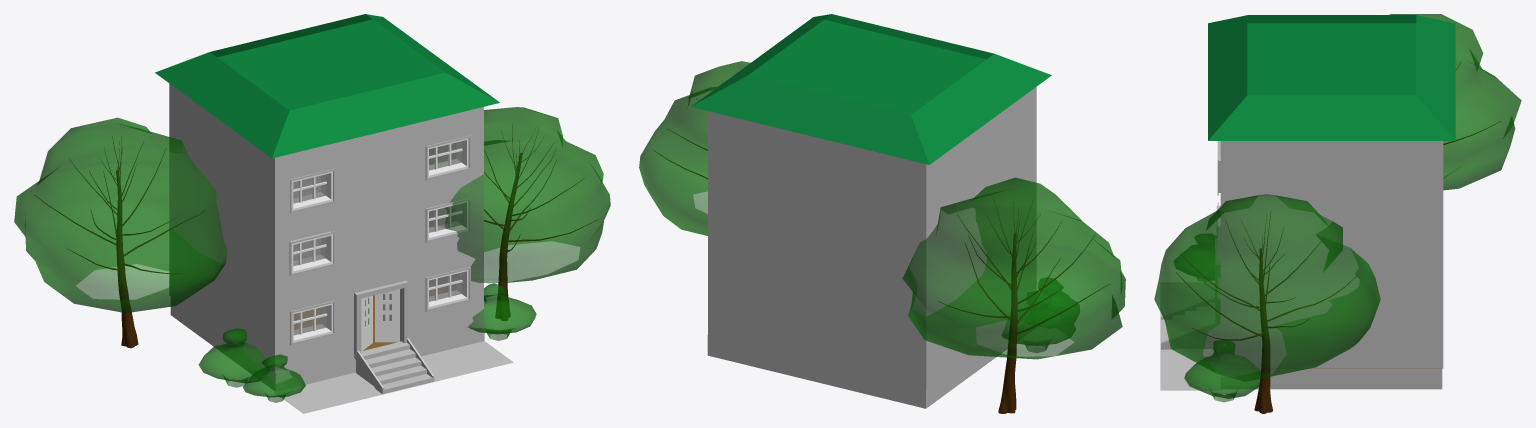
File: Apartment.obj
3 views of the same model, side by side, from view 1: azimuth 30°, elevation 25°; view 2: azimuth 150°, elevation 25°; view 3: azimuth 270°, elevation 25° (orthographic). The views are drawn at different scales.
Parts seen in each view (by area): view 1: Box001, Foliage005, Pyramid001, Foliage001, Box002, Plane001, PivotDoor001, StraightStair001, Foliage003, Foliage004, Foliage002, FixedWindow005 (+5 smaller); view 2: Box001, Foliage005, Pyramid001, Foliage001, Box002, Foliage003, Foliage002; view 3: Box001, Foliage001, Pyramid001, Foliage005, Box002, Plane001, Foliage004, StraightStair001, Foliage002.
Part boxes in pixels (x1=…): Box001: x1=169, y1=83, x2=483, y2=372; Foliage005: x1=14, y1=117, x2=227, y2=348; Pyramid001: x1=155, y1=14, x2=499, y2=158; Foliage001: x1=429, y1=107, x2=610, y2=320; Box002: x1=170, y1=282, x2=484, y2=391; Plane001: x1=274, y1=341, x2=513, y2=413; PivotDoor001: x1=354, y1=280, x2=408, y2=355; StraightStair001: x1=354, y1=338, x2=434, y2=394; Foliage003: x1=198, y1=328, x2=269, y2=387; Foliage004: x1=468, y1=283, x2=536, y2=340; Foliage002: x1=243, y1=354, x2=305, y2=402; FixedWindow005: x1=289, y1=231, x2=334, y2=276; Box001: x1=708, y1=87, x2=1036, y2=389; Foliage005: x1=902, y1=177, x2=1125, y2=413; Pyramid001: x1=691, y1=14, x2=1051, y2=164; Foliage001: x1=639, y1=61, x2=750, y2=235; Box002: x1=707, y1=321, x2=1023, y2=408; Foliage003: x1=1002, y1=292, x2=1075, y2=352; Foliage002: x1=1038, y1=278, x2=1079, y2=322; Box001: x1=1220, y1=141, x2=1443, y2=368; Foliage001: x1=1154, y1=194, x2=1380, y2=413; Pyramid001: x1=1208, y1=15, x2=1455, y2=140; Foliage005: x1=1389, y1=14, x2=1521, y2=190; Box002: x1=1220, y1=368, x2=1442, y2=389; Plane001: x1=1160, y1=282, x2=1221, y2=390; Foliage004: x1=1184, y1=340, x2=1260, y2=402; StraightStair001: x1=1161, y1=297, x2=1220, y2=349; Foliage002: x1=1174, y1=234, x2=1215, y2=279.
Bounding box in the file's own units: 289 × 147 × 174.
